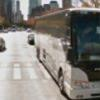buses: (32, 8, 100, 100)
